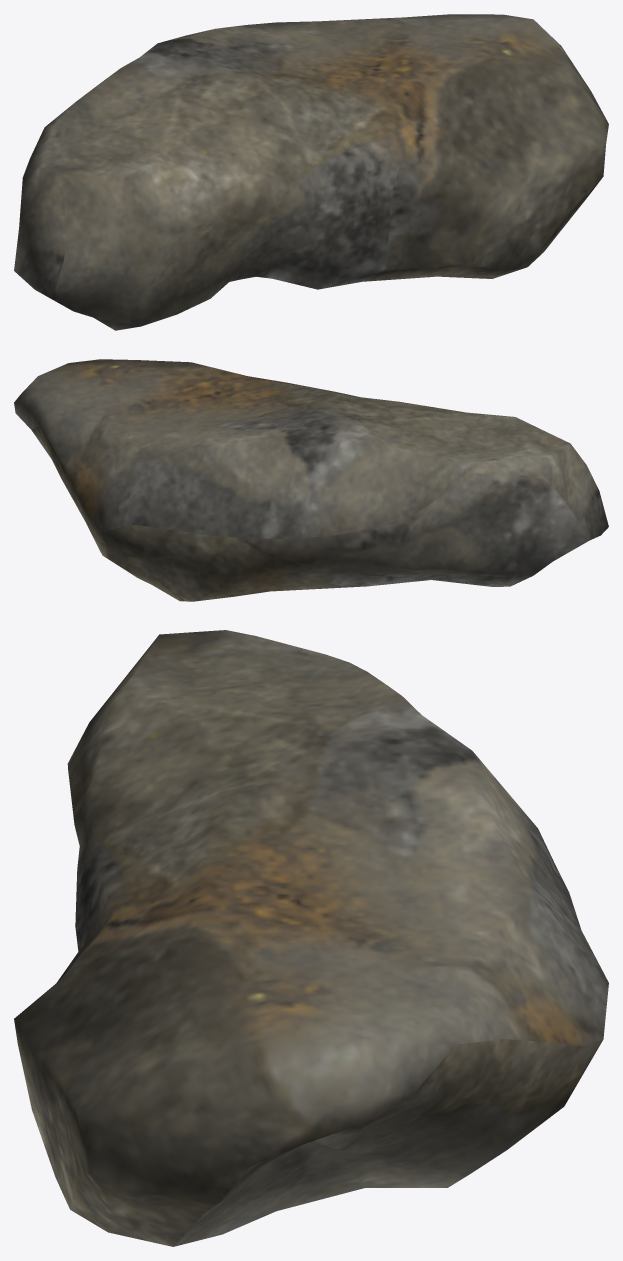
Rendered from rock.obj.
The picture shows the model from 3 angles, top to bottom: view 1: azimuth 30°, elevation 25°; view 2: azimuth 150°, elevation 25°; view 3: azimuth 270°, elevation 25°; orthographic projection. The views are drawn at different scales.
Visible parts, largest first — view 1: Pavementblock.025; view 2: Pavementblock.025; view 3: Pavementblock.025.
Boxes of the visible parts, box(x1,y1,x2,y2) form: Pavementblock.025: box(14, 14, 608, 330); Pavementblock.025: box(14, 359, 608, 601); Pavementblock.025: box(14, 630, 608, 1246).
Bounding box in the file's own units: 3.33 × 1.12 × 1.91.
